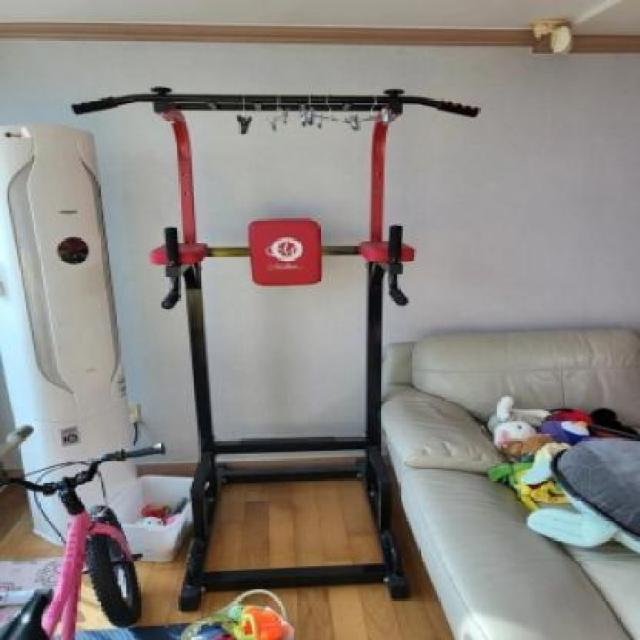chinning dipping: (72, 86, 477, 608)
